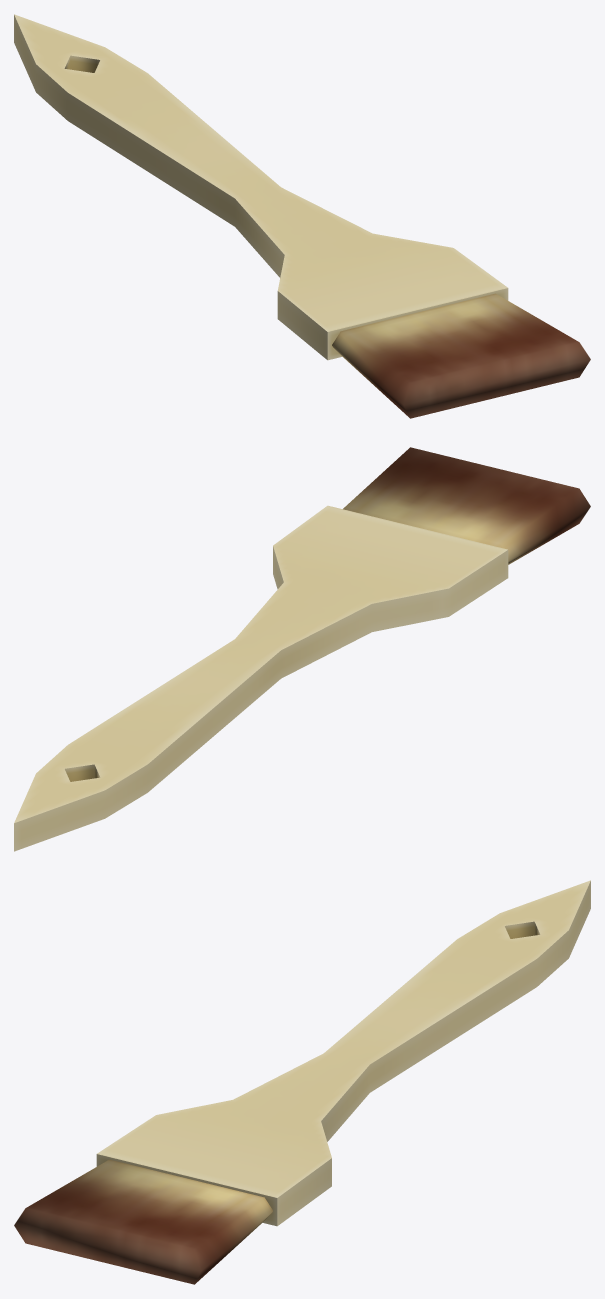
Rendered from jsf_Brush_03.fbx.
3 renders of one model, top to bottom at view 1: azimuth 30°, elevation 25°; view 2: azimuth 150°, elevation 25°; view 3: azimuth 330°, elevation 25°, orthographic.
Visible parts, largest first — view 1: jsf_Brush_03; view 2: jsf_Brush_03; view 3: jsf_Brush_03.
Part boxes in pixels (x1=…): jsf_Brush_03: x1=14, y1=14, x2=590, y2=418; jsf_Brush_03: x1=14, y1=447, x2=590, y2=851; jsf_Brush_03: x1=14, y1=880, x2=590, y2=1284.
Size of the model in its own units: 4.23 by 0.7605 by 18.91.
